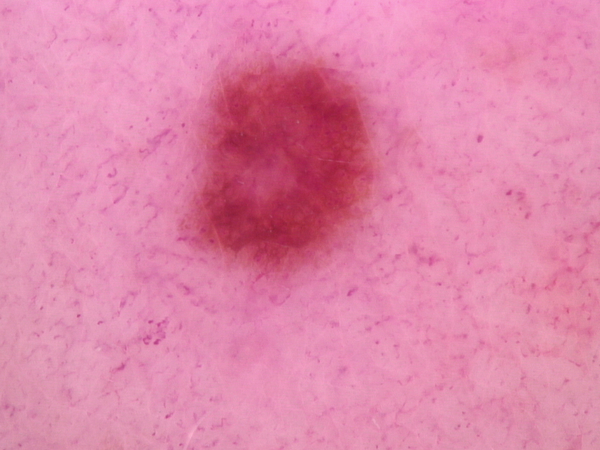Detected Lesion: (186, 53, 375, 276)
